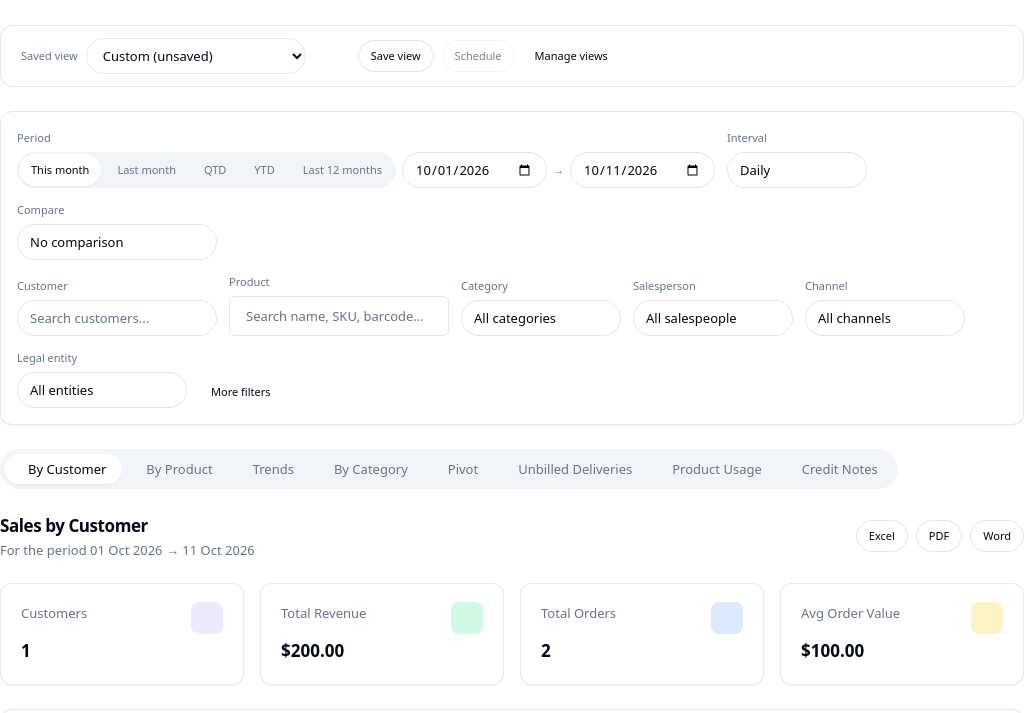
Test case: SalesAnalyticsPage comparison period (#595) › adds Δ and Δ% columns once a comparison mode is selected
Check: the text "Δ Revenue" is not shown
Check: the text "Δ% Revenue" is not shown
Click the dropdown named "comparison period". click: (117, 242)
box: x1=17 y1=224 x2=217 y2=260
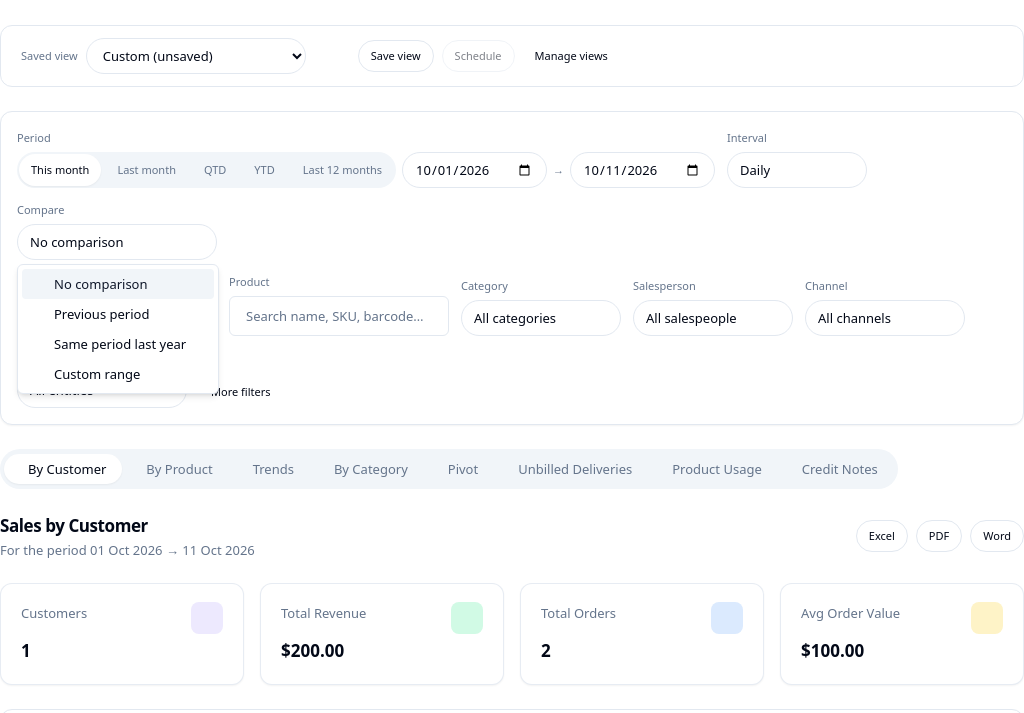
Click the option "Previous period". click: (102, 314)
box: x1=54 y1=305 x2=149 y2=323
(page scrolled)
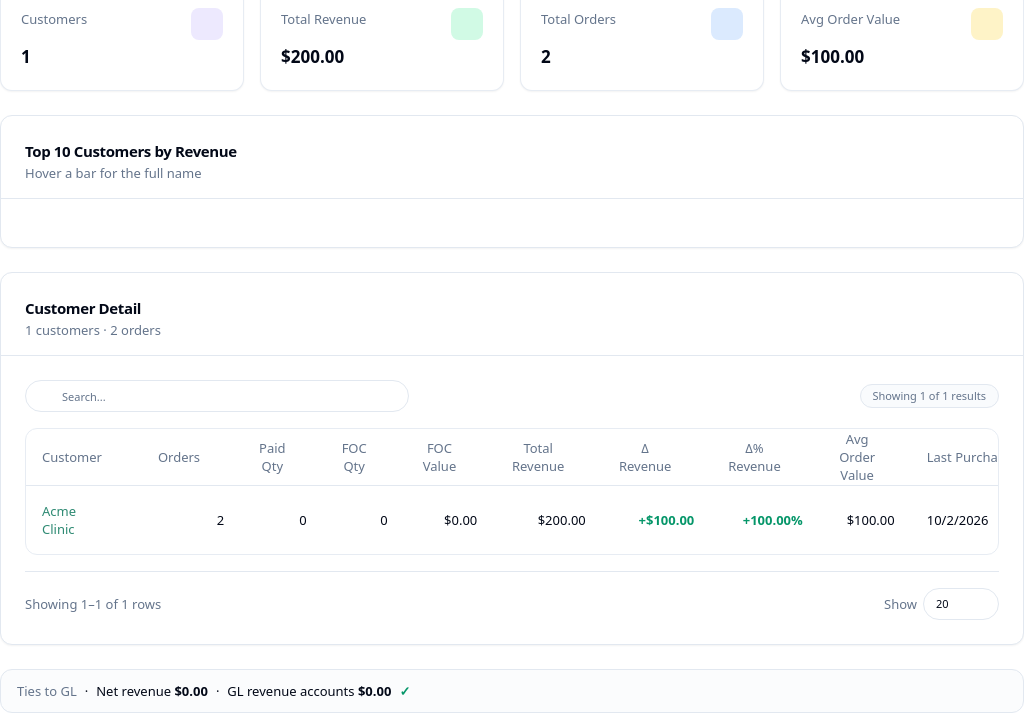
Check: the button "Δ Revenue" is shown, box x1=618 y1=439 x2=694 y2=475
Check: the button "Δ% Revenue" is shown, box x1=726 y1=439 x2=803 y2=475
Check: the text "+$100.00" is shown, box x1=638 y1=511 x2=694 y2=529
